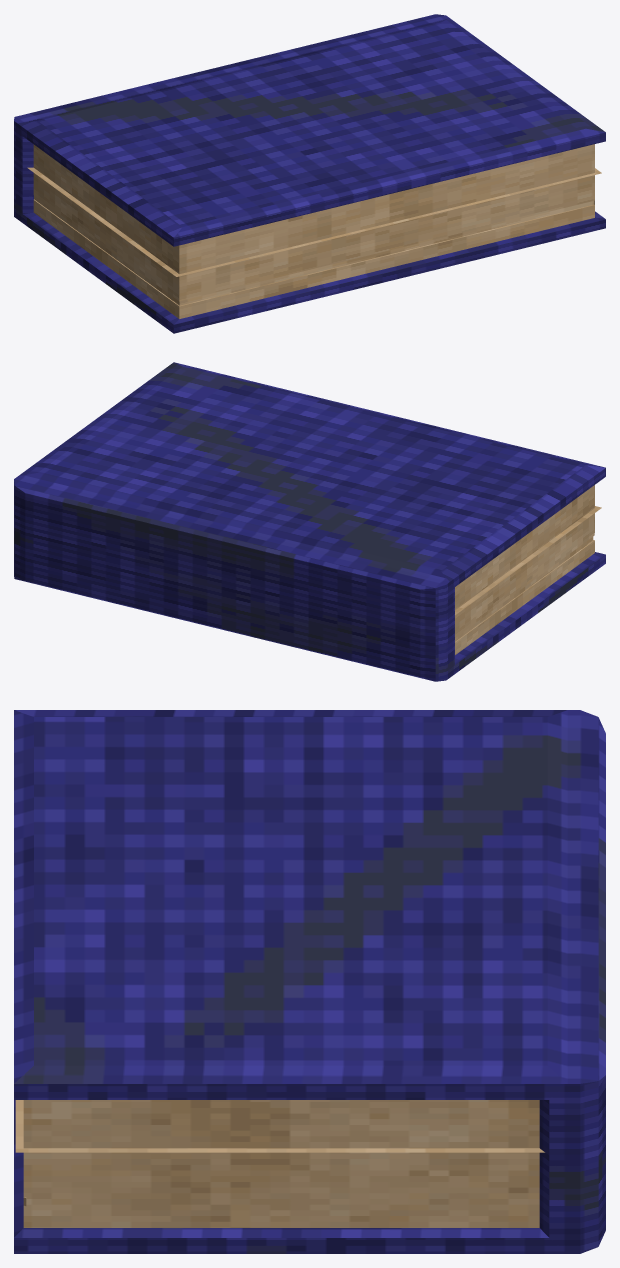
File: Libro_1_Blue.fbx
3 renders of one model, top to bottom at view 1: azimuth 30°, elevation 25°; view 2: azimuth 150°, elevation 25°; view 3: azimuth 270°, elevation 25°, orthographic. The views are drawn at different scales.
Visible parts, largest first — view 1: Cube.009; view 2: Cube.009; view 3: Cube.009.
Boxes of the visible parts, x1=… form: Cube.009: x1=14, y1=14, x2=605, y2=333; Cube.009: x1=14, y1=362, x2=605, y2=681; Cube.009: x1=14, y1=710, x2=605, y2=1253.
Size of the model in its own units: 0.2293 by 0.0502 by 0.1535.
2 materials, 2 textured.
